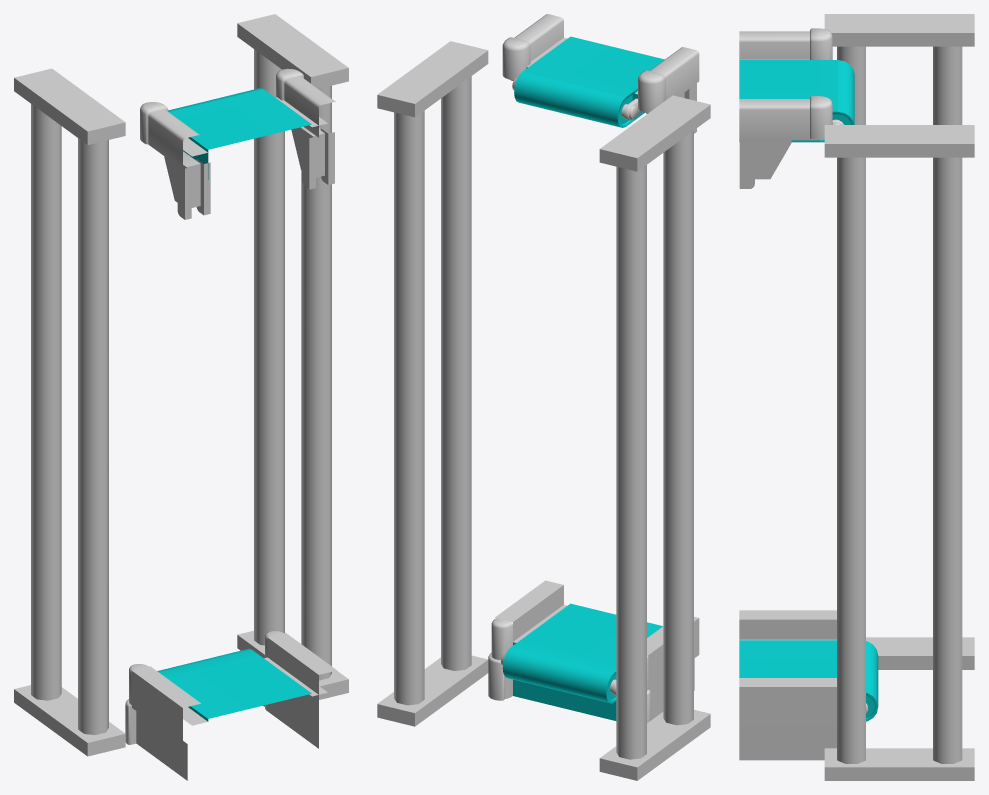
Rendered from Lift2DownBackwardInternalVariant.gltf.
3 renders of one model, left to right at view 1: azimuth 30°, elevation 25°; view 2: azimuth 150°, elevation 25°; view 3: azimuth 270°, elevation 25°, orthographic. The views are drawn at different scales.
Parts seen in each view (by area): view 1: Lift_2DownBackward_Layer0_LOD0; view 2: Lift_2DownBackward_Layer0_LOD0; view 3: Lift_2DownBackward_Layer0_LOD0.
Boxes of the visible parts, x1,y1,x2,y2 form: Lift_2DownBackward_Layer0_LOD0: [14, 14, 348, 780]; Lift_2DownBackward_Layer0_LOD0: [377, 14, 710, 780]; Lift_2DownBackward_Layer0_LOD0: [739, 14, 974, 780].
Bounding box in the file's own units: 0.9604 × 2.27 × 0.7356.
